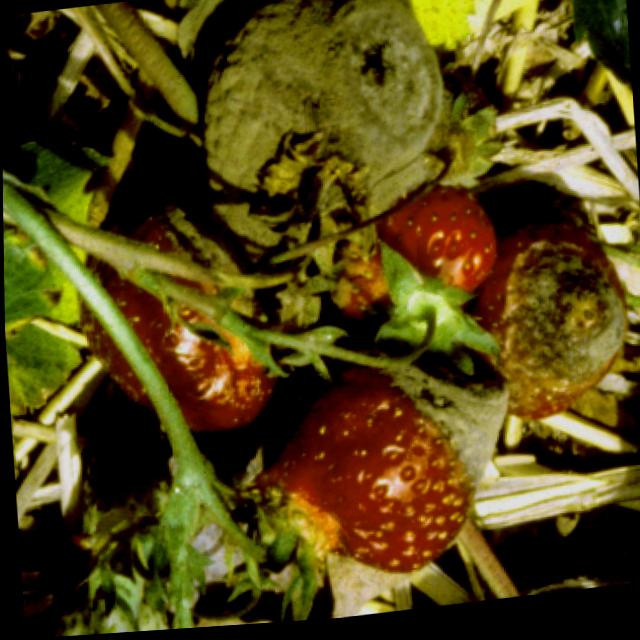Gray Mold: (203, 0, 447, 291), (235, 358, 504, 579), (469, 229, 623, 428)
